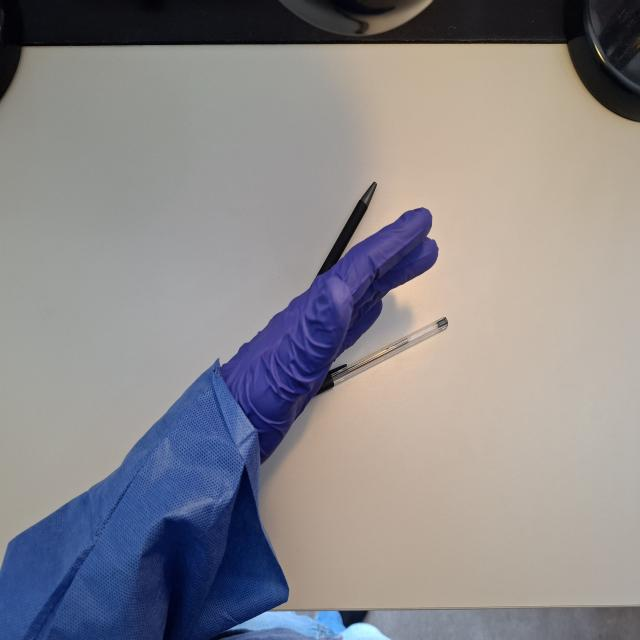glove_on: (206, 204, 442, 476)
